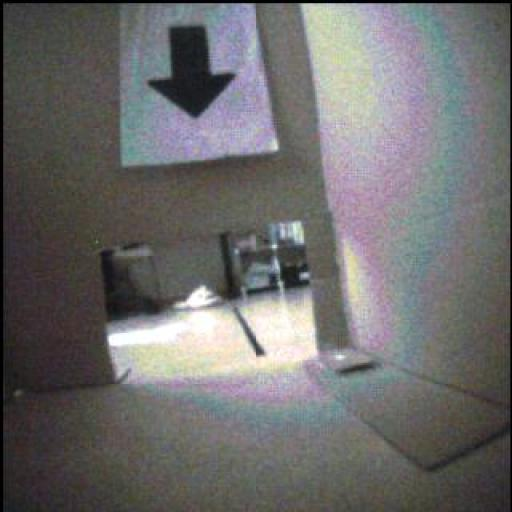arrow: (150, 27, 236, 118)
